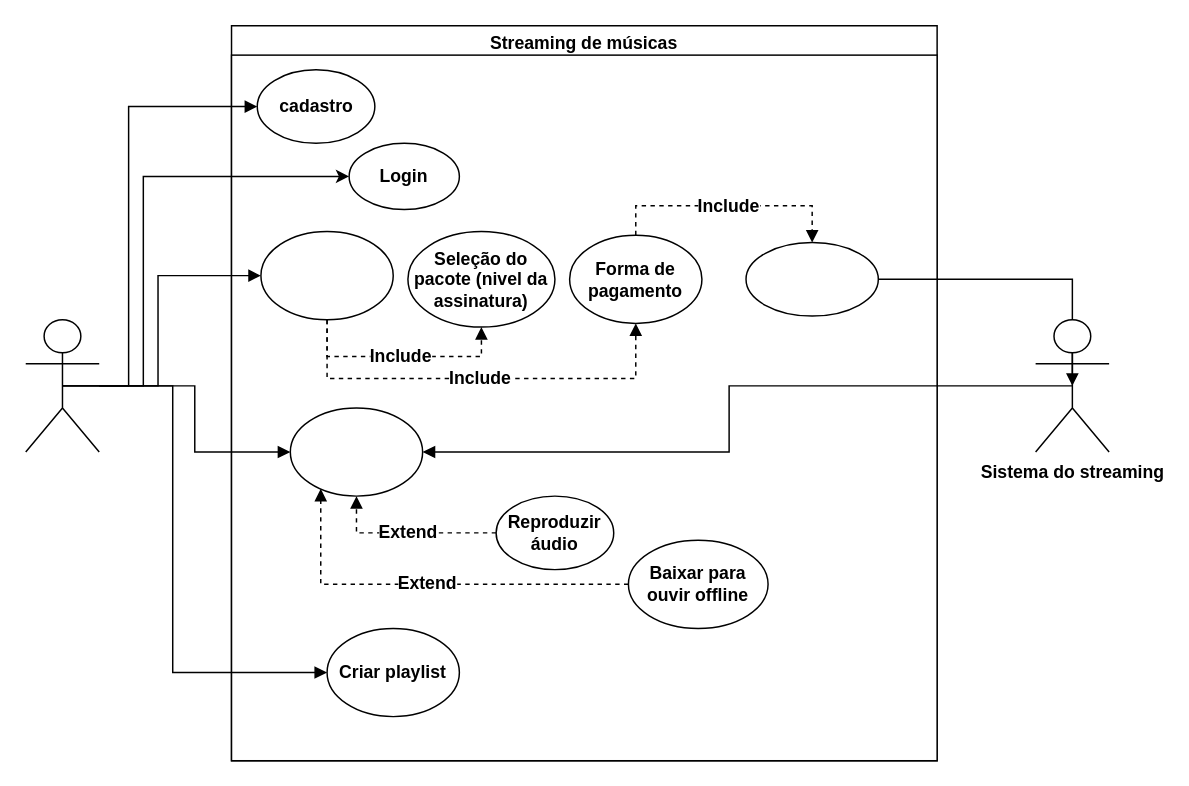
Image size: 1189x786. Some labels were removed from this diagram. The box of each missing label's shape, as (x1, y1, x2, y2) in pixels:
Assinatura: (259, 230, 393, 320)
escolher música: (289, 406, 423, 496)
Finalizar compra: (745, 241, 878, 316)
Usuário: (24, 318, 99, 452)
